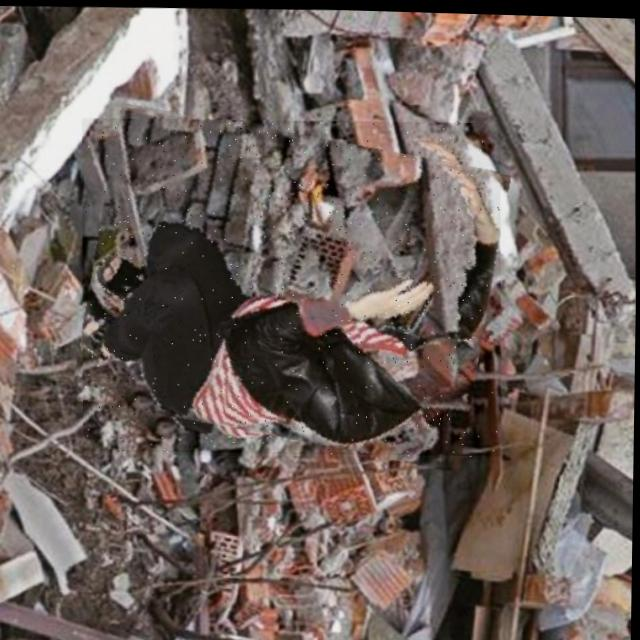Person in Rubble: (77, 110, 505, 461)
